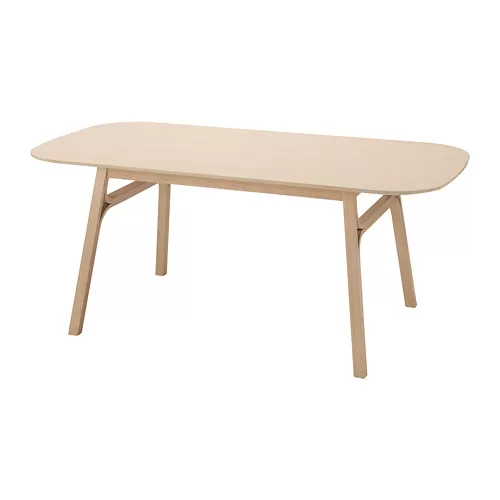Table: (30, 120, 471, 380)
